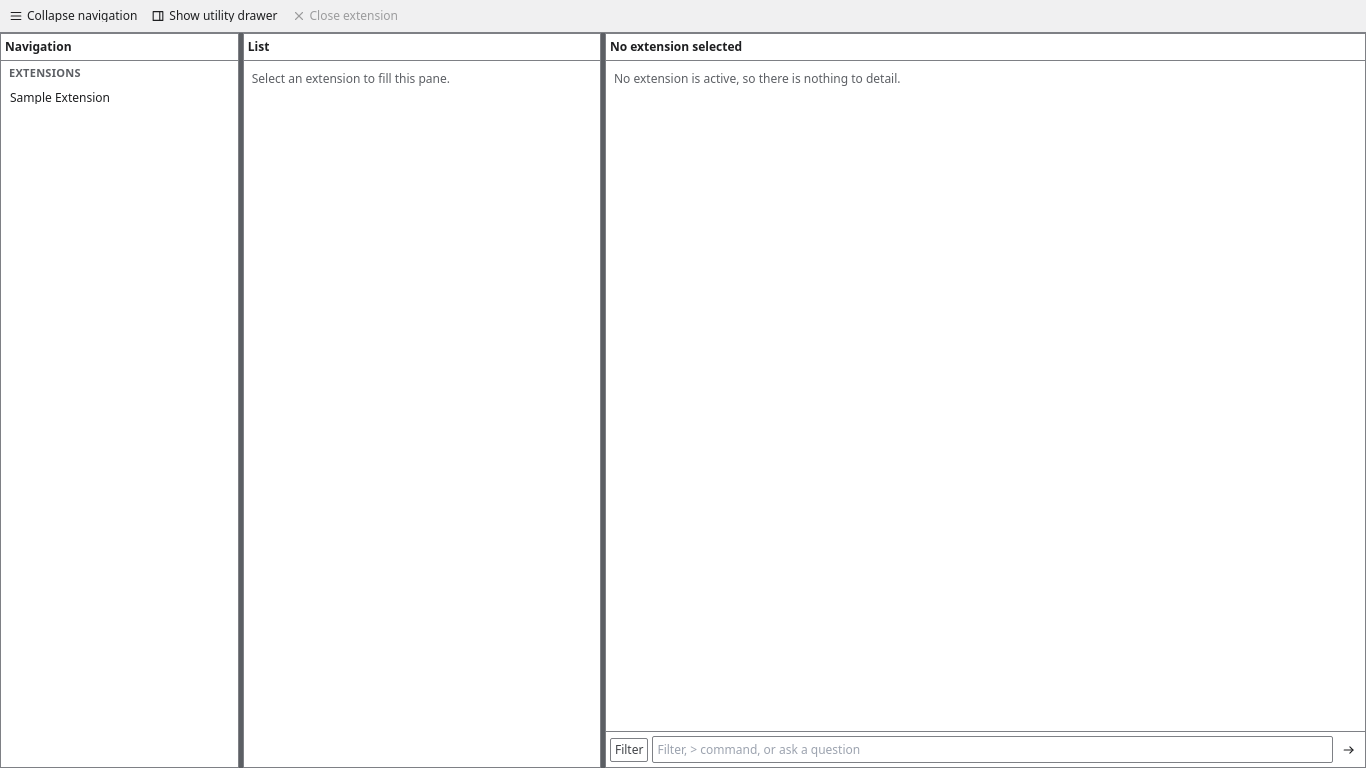
Test: ShellLayout — navigation badges › renders the tree an extension set at runtime, and a cleared badge falls back to the declared count
What coordinates should you click on to do the following:
click the button "Sample Extension"
I would click on:
 (119, 98)
Its box is [5,86,234,110].
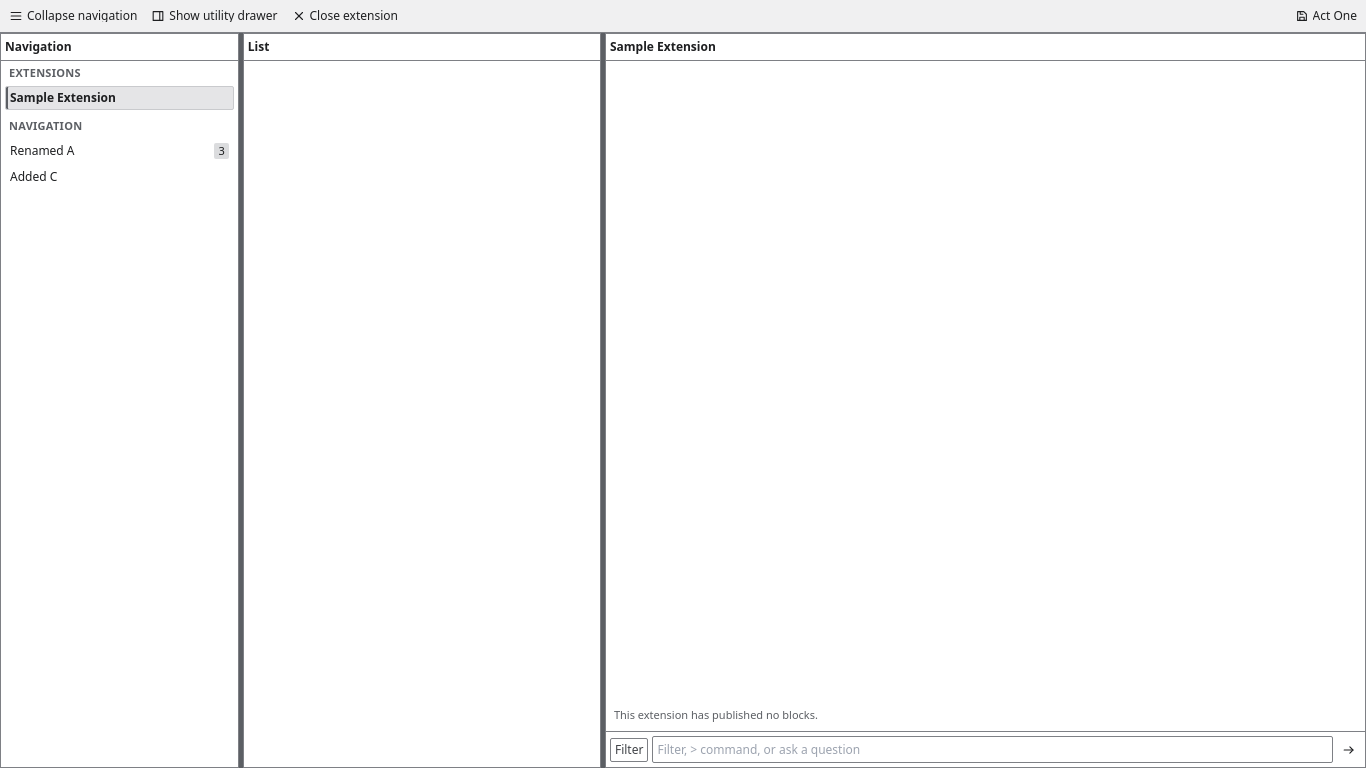
Now the button "Added C" is shown, box [5,165,234,189]
Now the button named "Renamed A badge 3" is shown, box [5,138,234,164]
